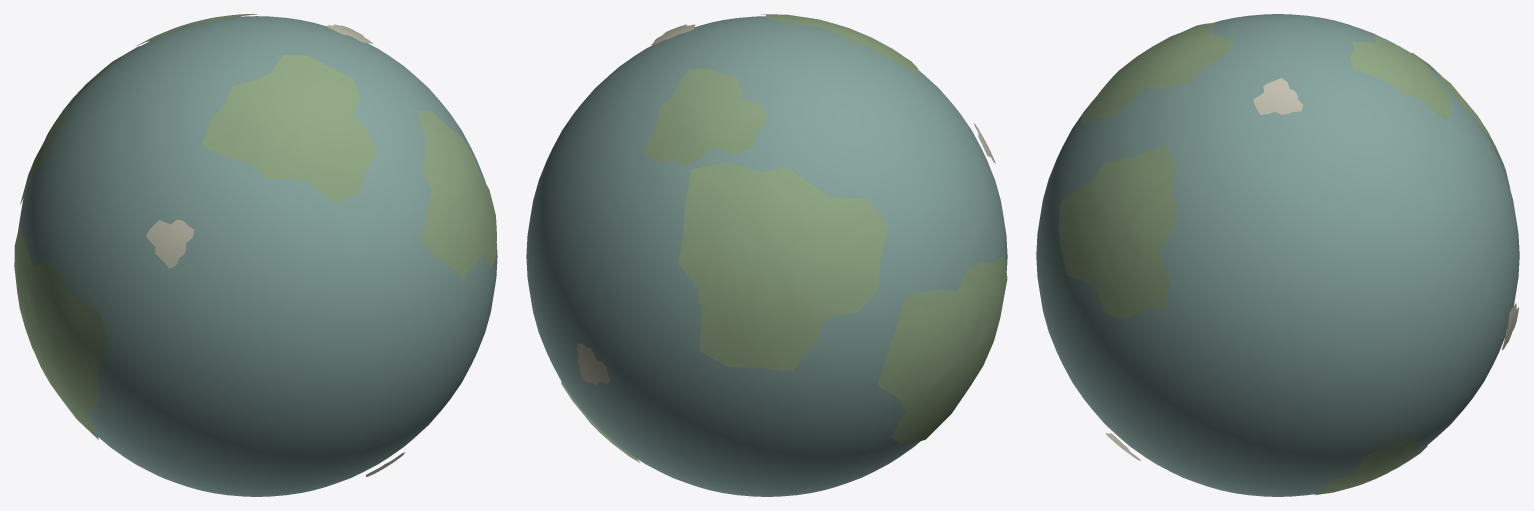
File: planet_11.glb
3 views of the same model, side by side, from view 1: azimuth 30°, elevation 25°; view 2: azimuth 150°, elevation 25°; view 3: azimuth 270°, elevation 25° (orthographic).
Parts seen in each view (by area): view 1: planet_11_painted_mesh; view 2: planet_11_painted_mesh; view 3: planet_11_painted_mesh.
Part boxes in pixels (x1,y1,x2,y2): planet_11_painted_mesh: [14, 14, 497, 496]; planet_11_painted_mesh: [526, 14, 1007, 496]; planet_11_painted_mesh: [1036, 14, 1519, 496].
Bounding box in the file's own units: 2.01 × 2 × 2.
